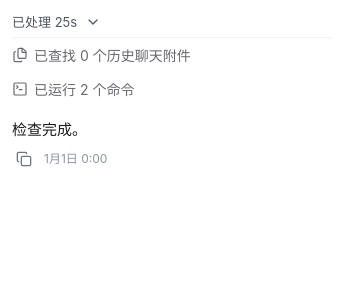
Chat activity density in the real timeline › wraps long Chinese reasons inside narrow columns with a consistent hanging indent
Click the heading "已运行 2 个命令". click: point(84, 92)
box: top-left (12, 80), bottom-right (155, 106)
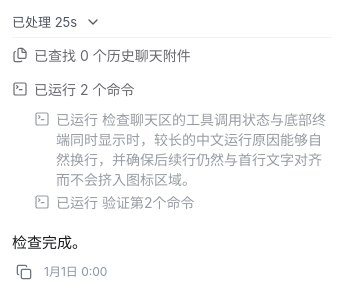
Result: the text with class "agent-activity__label" shows "检查聊天区的工具调用状态与底部终端同时显示时，较长的中文运行原因能够自然换行，并确保后续行仍然与首行文字对齐而不会挤入图标区域。" at top-left (56, 110), bottom-right (326, 188)
